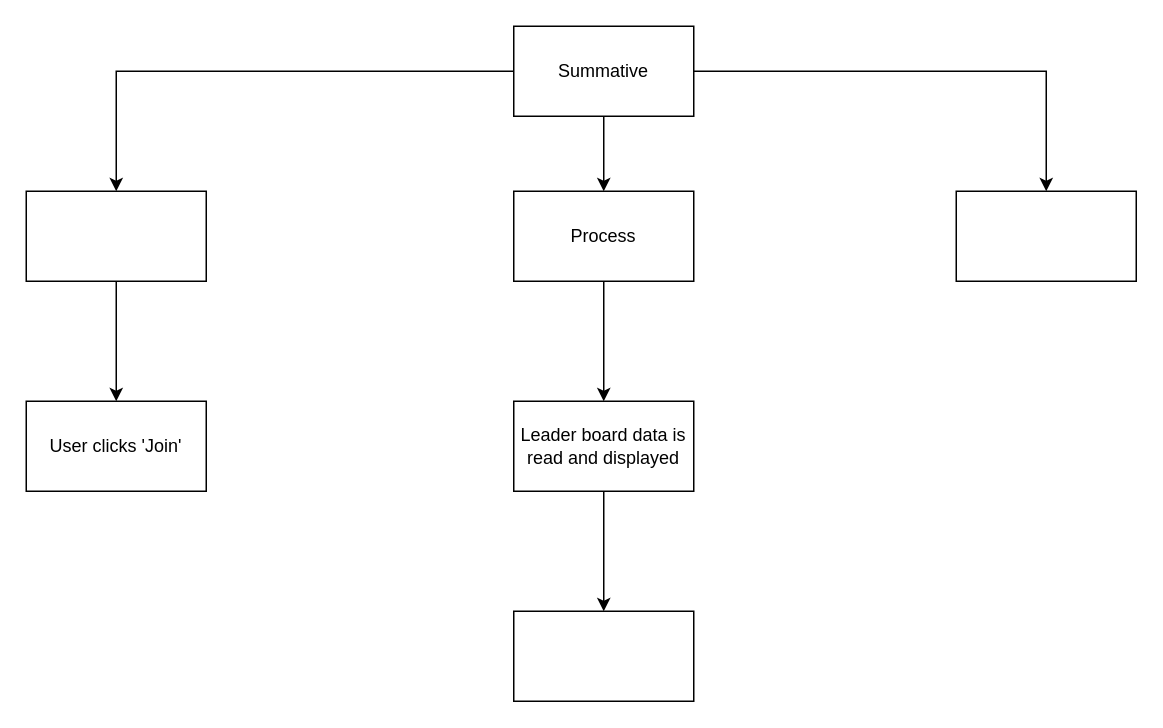
Some shapes in this 1163 by 728 pixel diagram are drawn without their labels. Each missing label, with the centre of its shape:
Input: the point at 115,235
Output: the point at 1045,235
